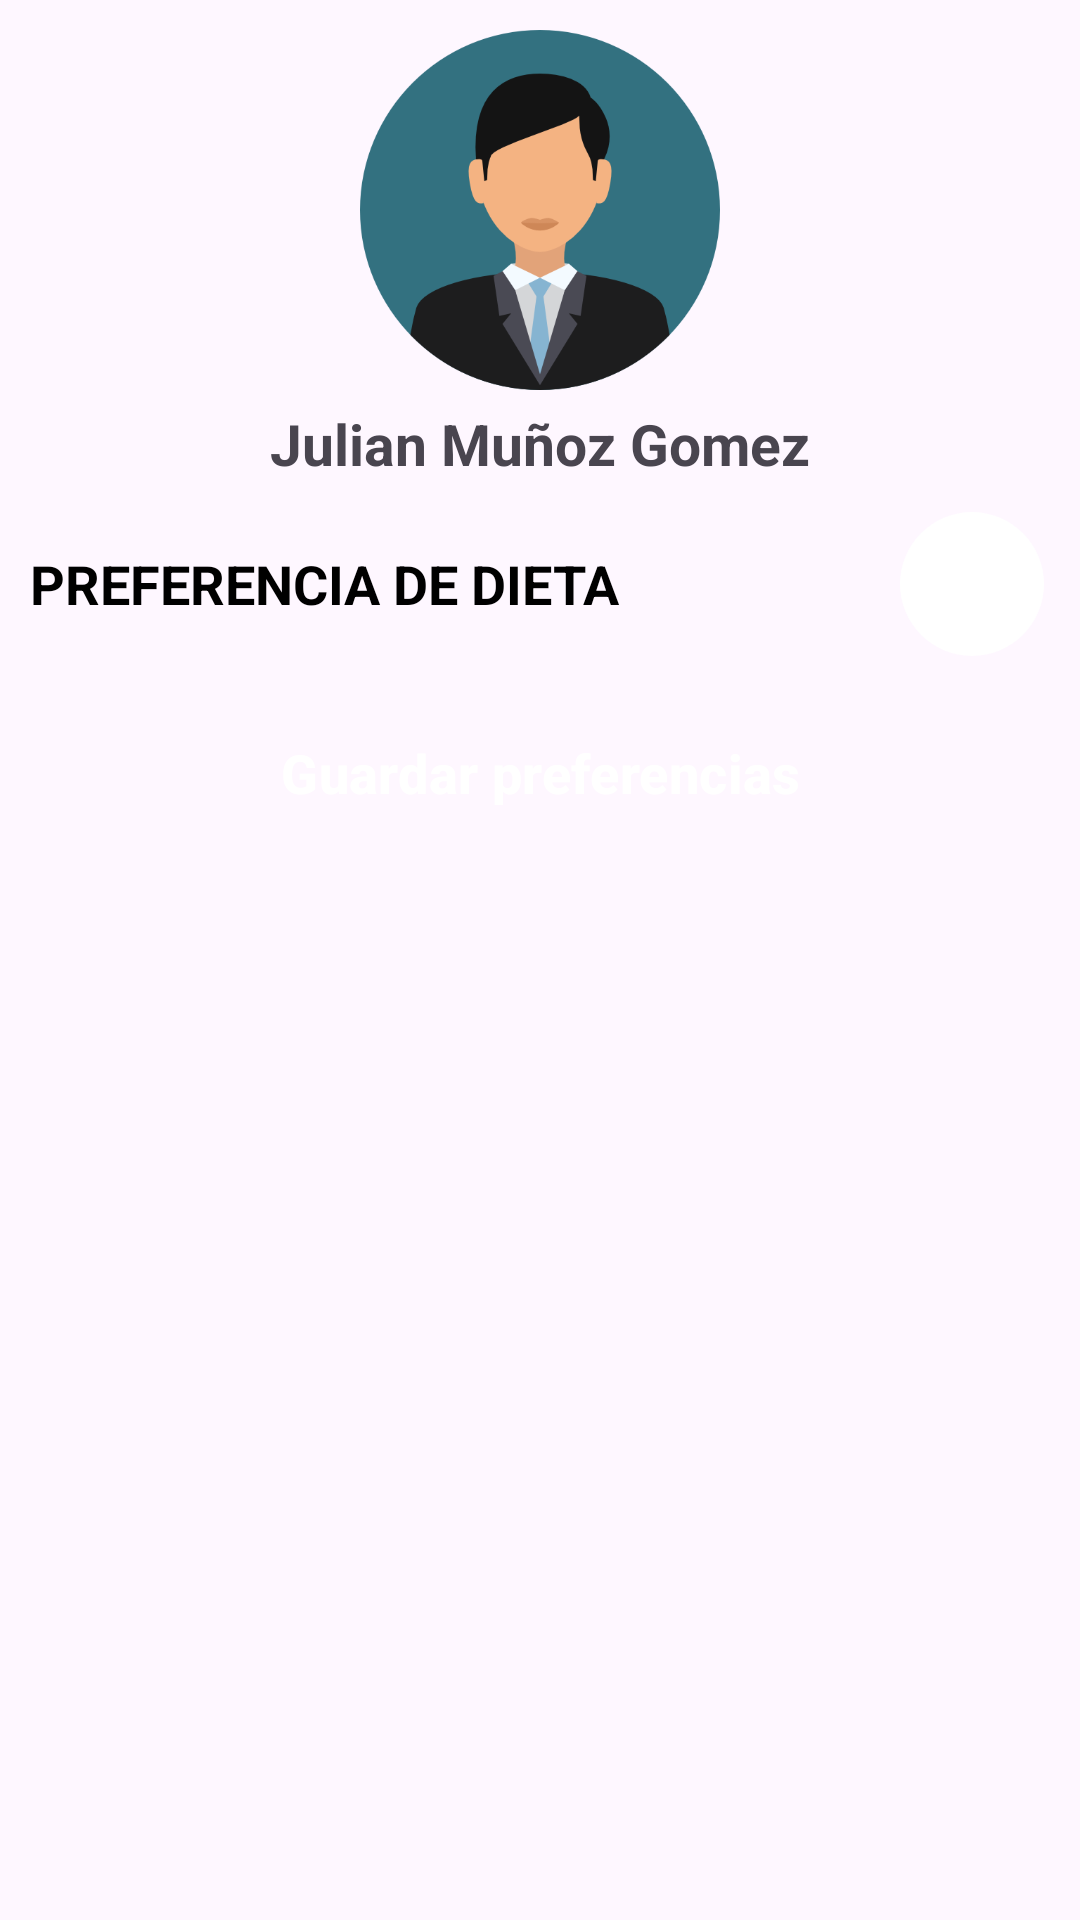

Screen size 1080px x 1920px. Icon name, then its center in pixels as point (x, y):
user: point (540, 210)
